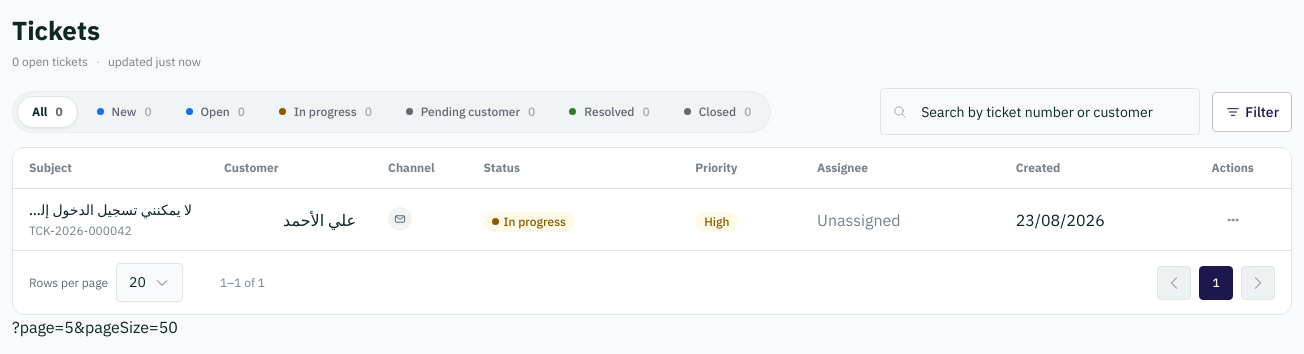
the tabs write the URL, and the page requests what the URL says › drops the page when a filter changes and keeps the page size
The width and height of the screenshot is (1304, 354).
Click the tab "New 0" at (124, 112), box [82, 96, 167, 128]
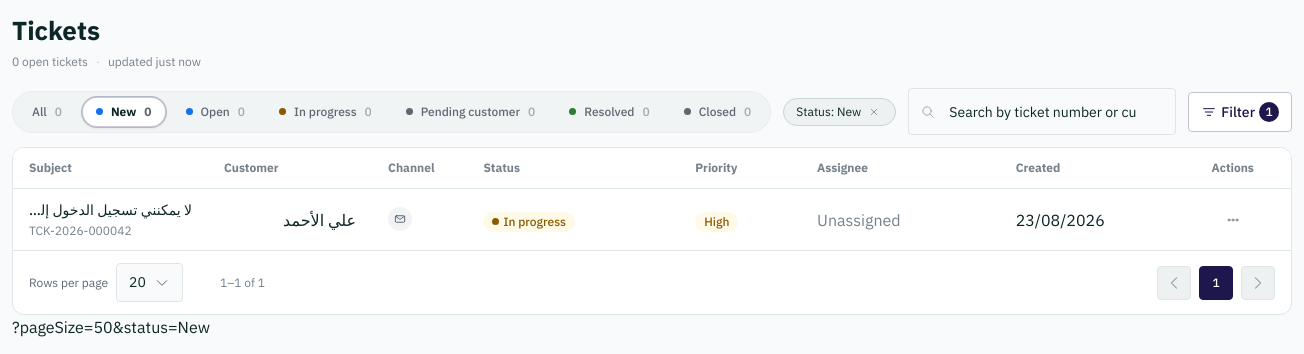
Now the text with test id "search" no longer shows "page=5"
